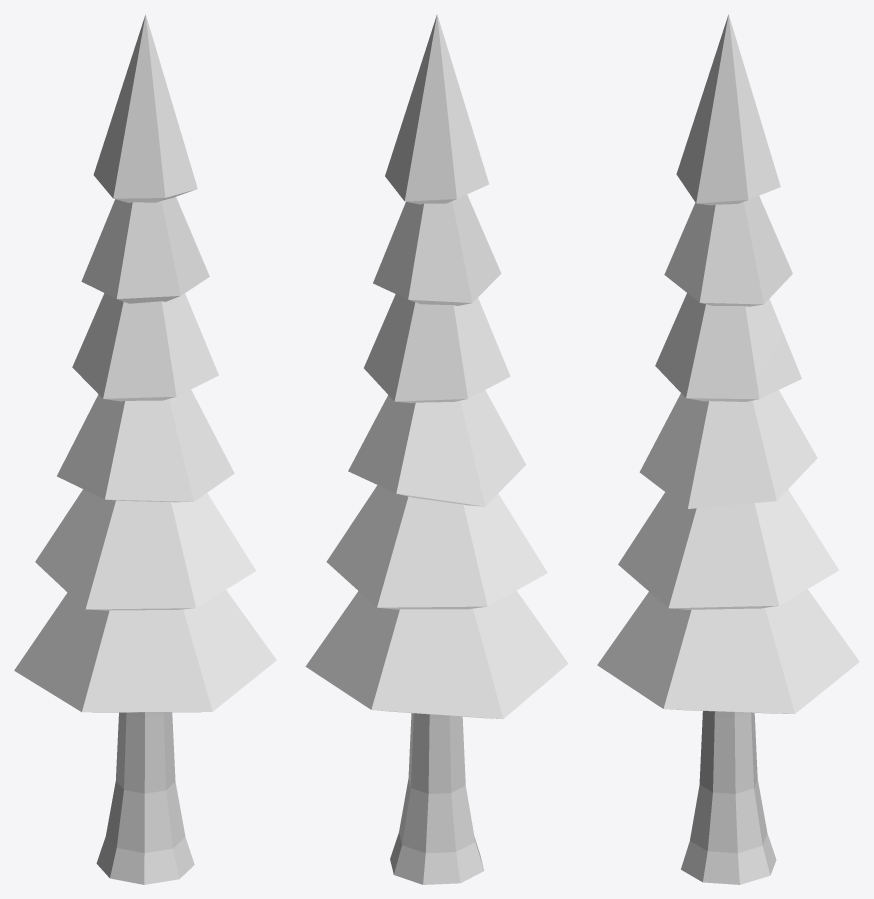
Rendered from LPW_Tree_B1_9m_01.fbx.
3 renders of one model, left to right at view 1: azimuth 30°, elevation 25°; view 2: azimuth 150°, elevation 25°; view 3: azimuth 270°, elevation 25°, orthographic.
Parts seen in each view (by area): view 1: LPW_Tree_B1_9m_01, LPW_Tree_B1_9m_01.001; view 2: LPW_Tree_B1_9m_01, LPW_Tree_B1_9m_01.001; view 3: LPW_Tree_B1_9m_01, LPW_Tree_B1_9m_01.001.
Part boxes in pixels (x1,y1,x2,y2): LPW_Tree_B1_9m_01: (14, 14, 276, 712); LPW_Tree_B1_9m_01.001: (96, 712, 194, 884); LPW_Tree_B1_9m_01: (305, 14, 568, 719); LPW_Tree_B1_9m_01.001: (390, 713, 484, 884); LPW_Tree_B1_9m_01: (597, 14, 859, 713); LPW_Tree_B1_9m_01.001: (681, 711, 776, 884).
Size of the model in its own units: 223 by 916 by 256.
